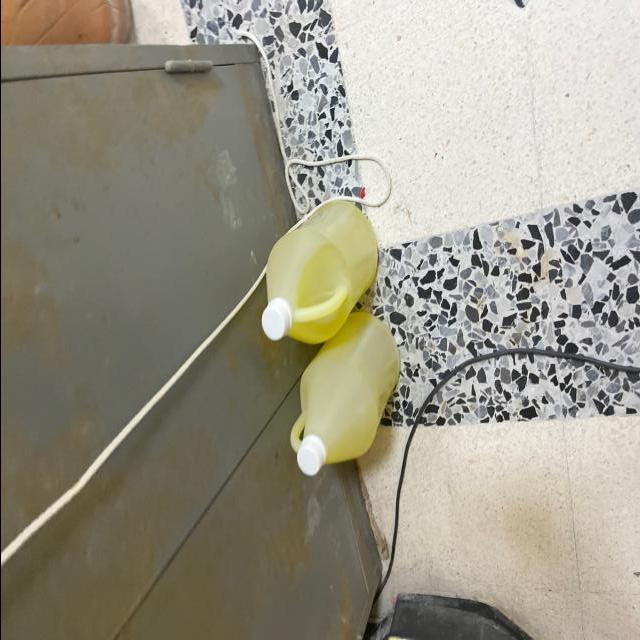HDPE Plastic: (266, 324, 404, 473), (261, 199, 384, 343)
